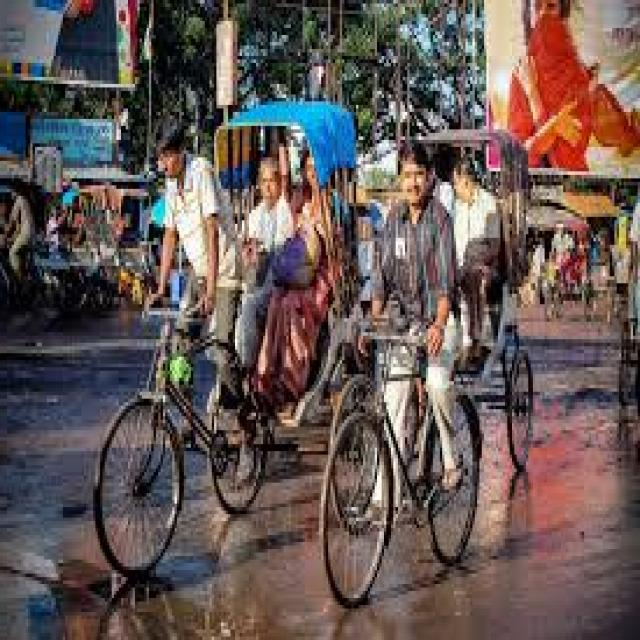bicycle: (94, 101, 357, 576), (323, 143, 479, 606)
